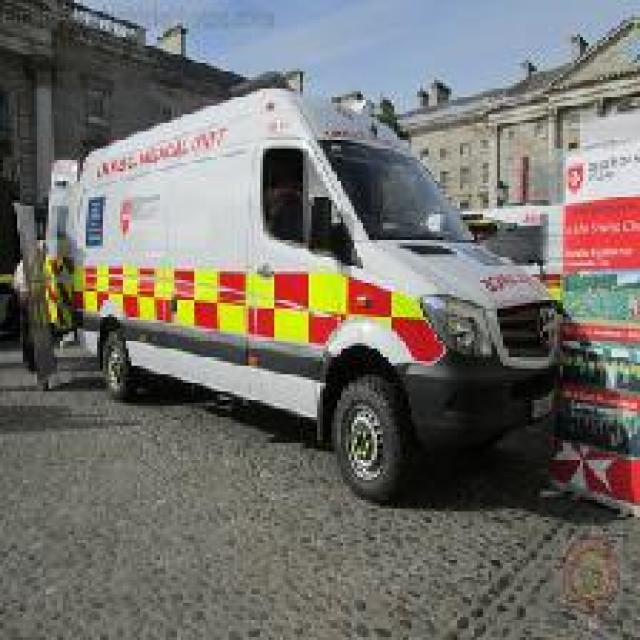Ambulance: (11, 83, 560, 503)
